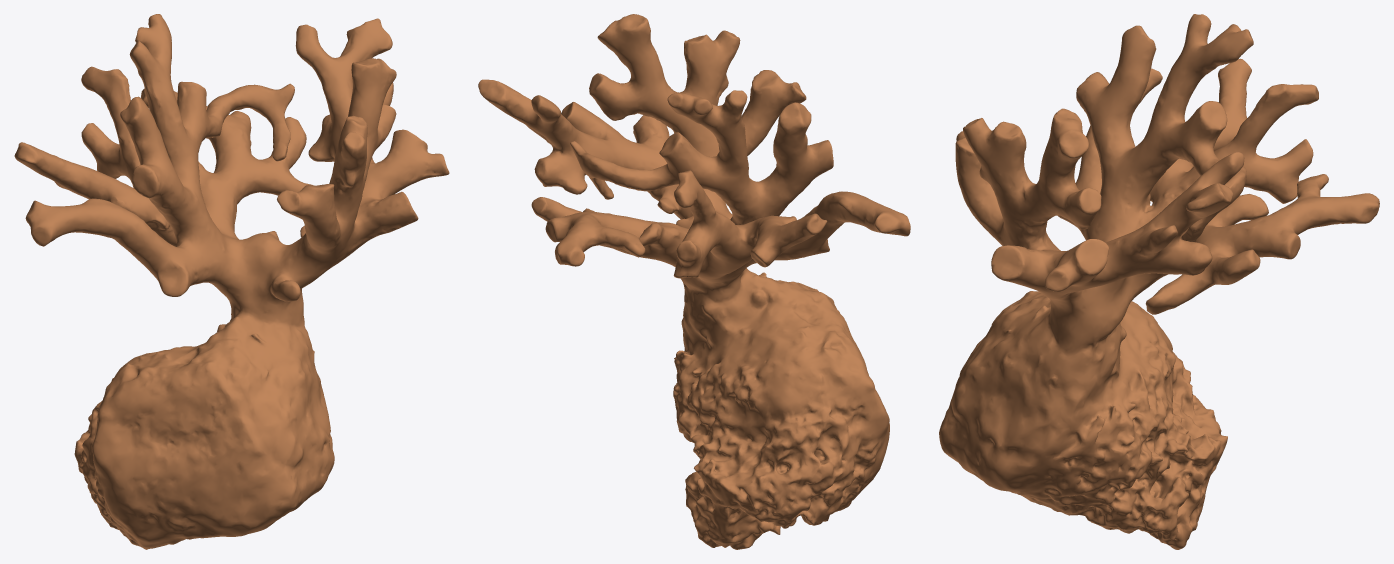
File: Coral1.glb
The picture shows the model from 3 angles, left to right: view 1: azimuth 30°, elevation 25°; view 2: azimuth 150°, elevation 25°; view 3: azimuth 270°, elevation 25°; orthographic projection. The views are drawn at different scales.
Parts seen in each view (by area): view 1: Coral1; view 2: Coral1; view 3: Coral1.
Boxes of the visible parts, x1,y1,x2,y2 form: Coral1: (14,14,449,549); Coral1: (478,14,910,549); Coral1: (939,14,1379,549).
Bounding box in the file's own units: 0.9665 × 1.14 × 0.8688.
